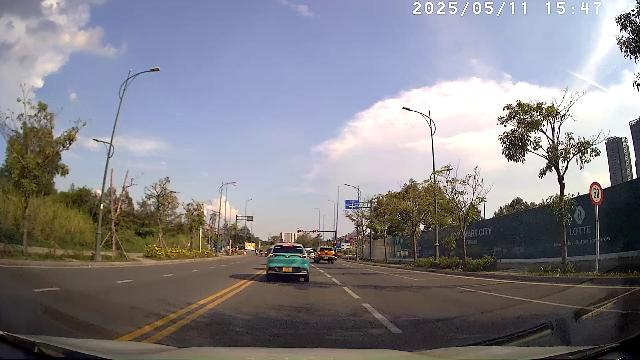127-toc-do-toi-da-50: (589, 181, 604, 205)
